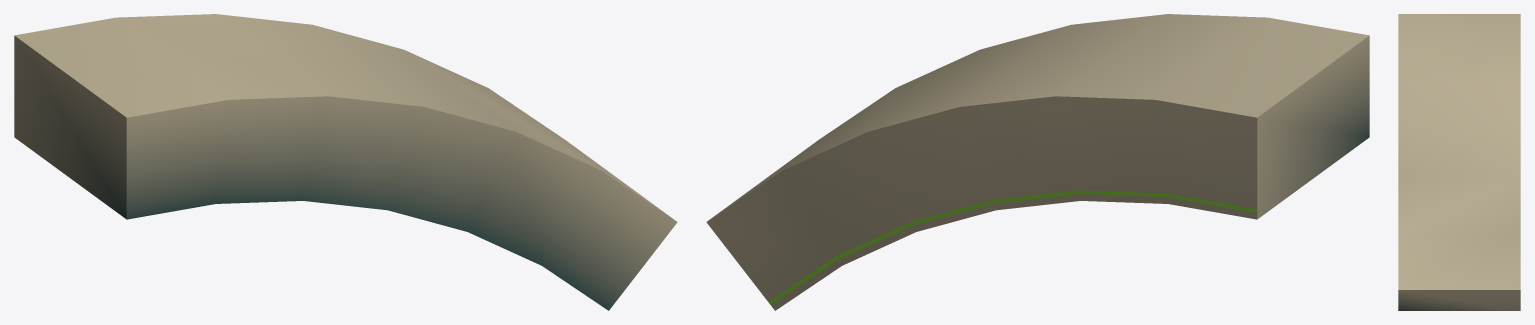
File: impeller_rim_sector.glb
The picture shows the model from 3 angles, left to right: view 1: azimuth 30°, elevation 25°; view 2: azimuth 150°, elevation 25°; view 3: azimuth 270°, elevation 25°; orthographic projection. The views are drawn at different scales.
Visible parts, largest first — view 1: RimSector; view 2: RimSector; view 3: RimSector.
Part boxes in pixels (left/top/right/bottom): RimSector: left=14, top=14, right=677, bottom=310; RimSector: left=706, top=14, right=1369, bottom=310; RimSector: left=1398, top=14, right=1520, bottom=310.
Size of the model in its own units: 8.49 by 4.58 by 3.
